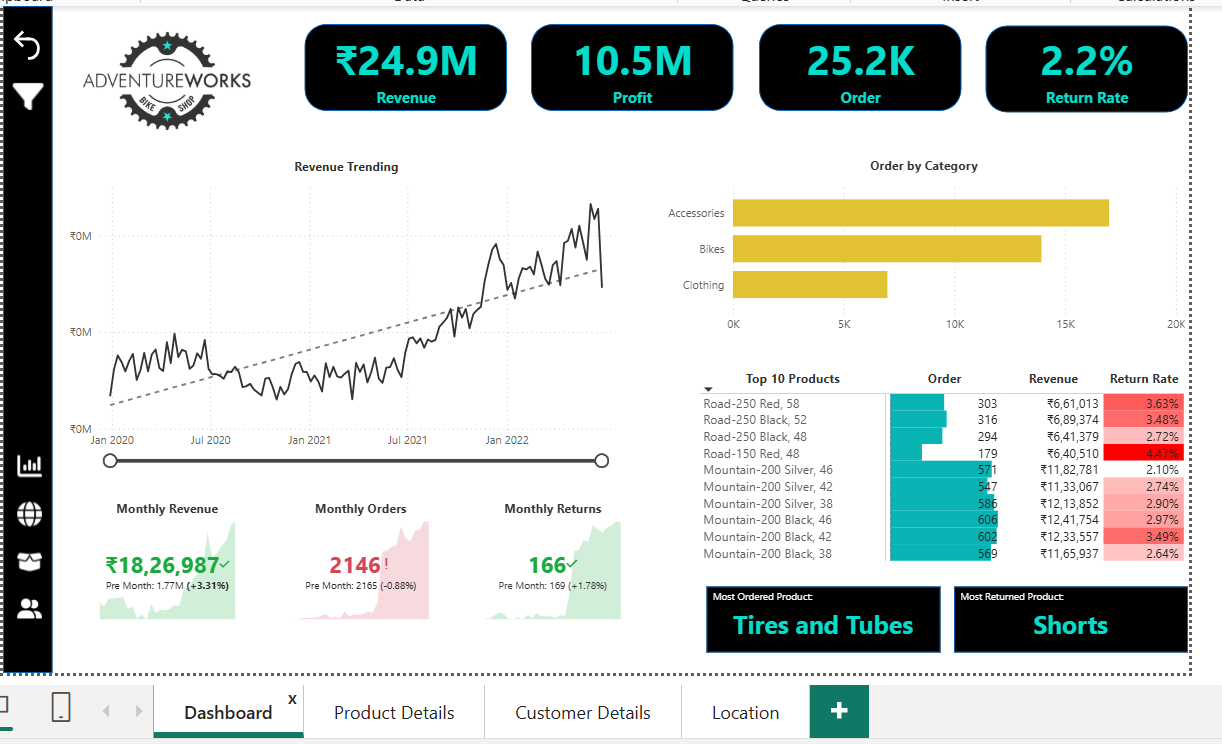

Layout of this report page (visuals, bound fields, positions):
{"tool":"powerbi","page":{"name":"Dashboard","canvas":[1280,720],"ordinal":0},"visuals":[{"type":"shape","box":[0,0,53.4,720],"z":0},{"type":"shape","box":[325.5,20,218.6,93.9],"z":0,"group":"g1"},{"type":"shape","box":[570.7,20,218.6,93.9],"z":0,"group":"g4"},{"type":"shape","box":[815.9,20,218.6,93.9],"z":0,"group":"g3"},{"type":"shape","box":[1061.4,21.2,218.6,93.9],"z":0,"group":"g2"},{"type":"actionButton","box":[11.7,471.2,34.8,51.5],"z":0,"group":"g7"},{"type":"shape","box":[1026.6,626.6,252.6,71.2],"z":0,"group":"g6"},{"type":"shape","box":[759.3,627.2,252.6,71.2],"z":0,"group":"g5"},{"type":"image","title":"Aw logo","box":[66.4,0,221.8,161.9],"z":1000},{"type":"card","fields":{"Values":["Measures (2).Total Revenue"]},"box":[325.5,20,218.6,95.5],"z":1000,"group":"g1"},{"type":"card","fields":{"Values":["Measures (2).Total Profit"]},"box":[570.7,20,218.6,95.5],"z":1000,"group":"g4"},{"type":"card","fields":{"Values":["Measures (2).Total Order"]},"box":[815.9,20,218.6,95.5],"z":1000,"group":"g3"},{"type":"card","fields":{"Values":["Measures (2).Return Rate"]},"box":[1060.8,20,218.6,95.5],"z":1000,"group":"g2"},{"type":"actionButton","box":[11.7,522.7,34.8,51.5],"z":1000,"group":"g7"},{"type":"card","title":"Most Returned Product:","fields":{"Values":["Min(Product Subcategories.SubcategoryName)"]},"box":[1028.2,629.8,247.7,63.1],"z":1000,"group":"g6"},{"type":"card","title":"Most Ordered Product:","fields":{"Values":["Min(Product Subcategories.SubcategoryName)"]},"box":[760.9,630.4,247.7,63.1],"z":1000,"group":"g5"},{"type":"group","id":"g1","title":"Revenue","box":[325.5,20,218.6,95.5],"z":2000},{"type":"actionButton","box":[11.7,574.2,34.8,51.5],"z":2000,"group":"g7"},{"type":"group","id":"g2","title":"Return Rate","box":[1060.8,20,219.2,95.5],"z":3000},{"type":"actionButton","box":[11.7,625.7,34.8,51.5],"z":3000,"group":"g7"},{"type":"group","id":"g3","title":"Order","box":[815.9,20,218.6,95.5],"z":4000},{"type":"group","id":"g4","title":"Profit","box":[570.7,20,218.6,95.5],"z":5000},{"type":"lineChart","title":"Revenue Trending","fields":{"Y":["Measures (2).Total Revenue"],"Category":["Calendar.Start of Month","Calendar.Start of Week","Calendar.Year"]},"box":[66.4,163.5,608.8,338.4],"z":6000},{"type":"clusteredBarChart","title":"Order by Category","fields":{"Category":["Product Categories.CategoryName"],"Y":["Measures (2).Total Order"]},"box":[707.6,161.9,573.2,199.2],"z":7000},{"type":"pivotTable","fields":{"Values":["Measures (2).Total Order","Measures (2).Total Revenue","Measures (2).Return Rate"],"Rows":["Product Details.ProductName"]},"box":[746.5,387,534.3,220.2],"z":8000},{"type":"kpi","title":"Monthly Revenue","fields":{"TrendLine":["Calendar.Start of Month"],"Indicator":["Measures (2).Total Revenue"],"Goal":["Measures (2).Previous Month Revenue"]},"box":[98.8,532.7,157.1,134.4],"z":9000},{"type":"kpi","title":"Monthly Returns","fields":{"TrendLine":["Calendar.Start of Month"],"Indicator":["Measures (2).Total Return"],"Goal":["Measures (2).Previous Month Return"]},"box":[514.9,532.7,157.1,134.4],"z":10000},{"type":"kpi","title":"Monthly Orders","fields":{"TrendLine":["Calendar.Start of Month"],"Indicator":["Measures (2).Total Order"],"Goal":["Measures (2).Previous Month Orders"]},"box":[306.8,532.7,157.1,134.4],"z":11000},{"type":"group","id":"g5","title":"Most Ordered Prodcut","box":[759.3,627.2,252.6,71.2],"z":12000},{"type":"group","id":"g6","title":"Most Ordered Prodcut","box":[1026.6,626.6,252.6,71.2],"z":13000},{"type":"group","id":"g7","title":"Navigation","box":[11.7,471.2,34,207.3],"z":14000},{"type":"actionButton","box":[4.9,21,100.4,42.1],"z":15000},{"type":"actionButton","box":[6.6,74.2,41.2,46.2],"z":16000}]}

Visuals, with their boxes on the page's 1280x720 design canvas (x1, y1, x2, y2). These are canvas units, not pixel positions in the 1222x744 screenshot, which may show the page scaled, cropped or inside an application window:
shape: (left=0, top=0, right=53, bottom=720)
shape: (left=326, top=20, right=544, bottom=114)
shape: (left=571, top=20, right=789, bottom=114)
shape: (left=816, top=20, right=1034, bottom=114)
shape: (left=1061, top=21, right=1280, bottom=115)
actionButton: (left=12, top=471, right=46, bottom=523)
shape: (left=1027, top=627, right=1279, bottom=698)
shape: (left=759, top=627, right=1012, bottom=698)
"Aw logo" image: (left=66, top=0, right=288, bottom=162)
card - Measures (2).Total Revenue: (left=326, top=20, right=544, bottom=116)
card - Measures (2).Total Profit: (left=571, top=20, right=789, bottom=116)
card - Measures (2).Total Order: (left=816, top=20, right=1034, bottom=116)
card - Measures (2).Return Rate: (left=1061, top=20, right=1279, bottom=116)
actionButton: (left=12, top=523, right=46, bottom=574)
"Most Returned Product:" card: (left=1028, top=630, right=1276, bottom=693)
"Most Ordered Product:" card: (left=761, top=630, right=1009, bottom=694)
"Revenue" group: (left=326, top=20, right=544, bottom=116)
actionButton: (left=12, top=574, right=46, bottom=626)
"Return Rate" group: (left=1061, top=20, right=1280, bottom=116)
actionButton: (left=12, top=626, right=46, bottom=677)
"Order" group: (left=816, top=20, right=1034, bottom=116)
"Profit" group: (left=571, top=20, right=789, bottom=116)
"Revenue Trending" lineChart: (left=66, top=164, right=675, bottom=502)
"Order by Category" clusteredBarChart: (left=708, top=162, right=1281, bottom=361)
pivotTable - Measures (2).Total Order x Measures (2).Total Revenue: (left=746, top=387, right=1281, bottom=607)
"Monthly Revenue" kpi: (left=99, top=533, right=256, bottom=667)
"Monthly Returns" kpi: (left=515, top=533, right=672, bottom=667)
"Monthly Orders" kpi: (left=307, top=533, right=464, bottom=667)
"Most Ordered Prodcut" group: (left=759, top=627, right=1012, bottom=698)
"Most Ordered Prodcut" group: (left=1027, top=627, right=1279, bottom=698)
"Navigation" group: (left=12, top=471, right=46, bottom=678)
actionButton: (left=5, top=21, right=105, bottom=63)
actionButton: (left=7, top=74, right=48, bottom=120)
